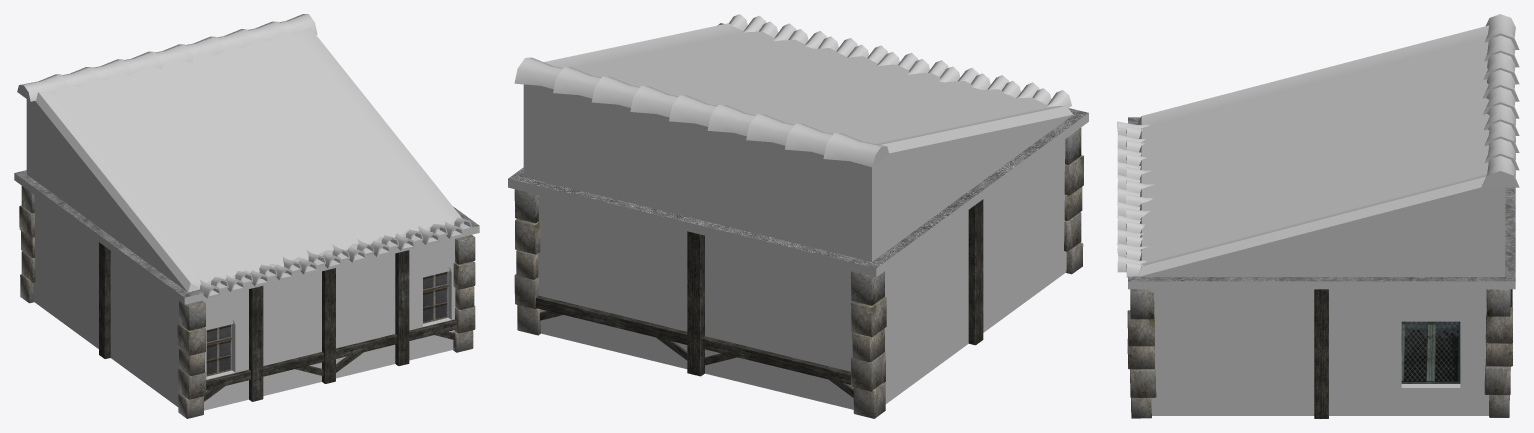
Rendered from Building_Roof_07.fbx.
3 views of the same model, side by side, from view 1: azimuth 30°, elevation 25°; view 2: azimuth 150°, elevation 25°; view 3: azimuth 270°, elevation 25° (orthographic). The views are drawn at different scales.
Parts seen in each view (by area): view 1: Building_Roof_07; view 2: Building_Roof_07; view 3: Building_Roof_07.
Part boxes in pixels (x1,y1,x2,y2): Building_Roof_07: (14, 14, 479, 418); Building_Roof_07: (508, 14, 1088, 418); Building_Roof_07: (1117, 14, 1519, 418).
Size of the model in its own units: 528 by 371 by 548.
